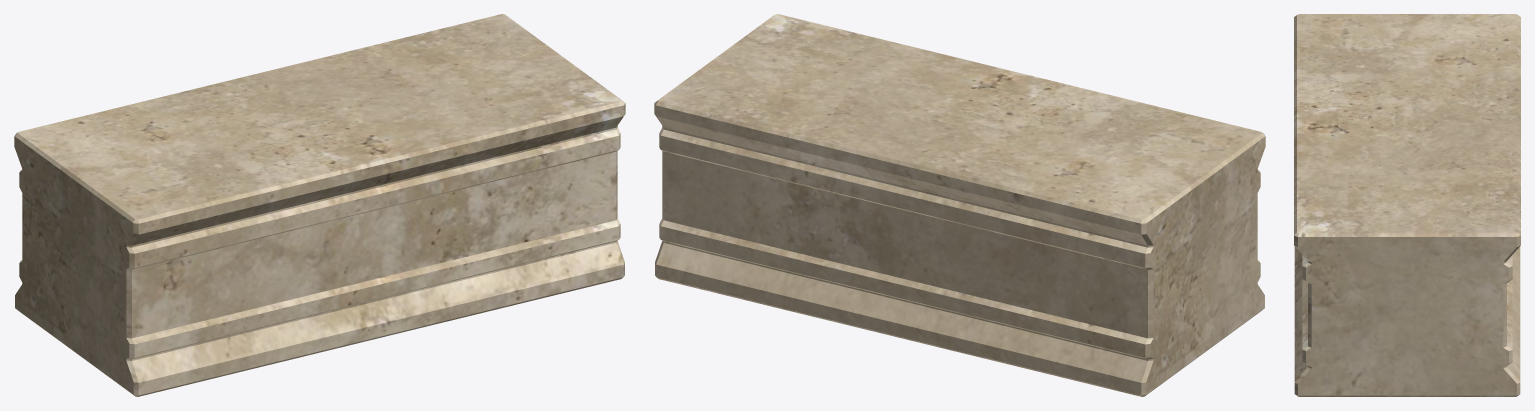
The model's file is decorative_brick.FBX.
3 renders of one model, left to right at view 1: azimuth 30°, elevation 25°; view 2: azimuth 150°, elevation 25°; view 3: azimuth 270°, elevation 25°, orthographic. The views are drawn at different scales.
Visible parts, largest first — view 1: Object007; view 2: Object007; view 3: Object007.
Boxes of the visible parts, x1,y1,x2,y2 form: Object007: (14, 14, 625, 396); Object007: (654, 14, 1265, 396); Object007: (1294, 14, 1520, 396).
Size of the model in its own units: 150 by 51.69 by 64.79.
